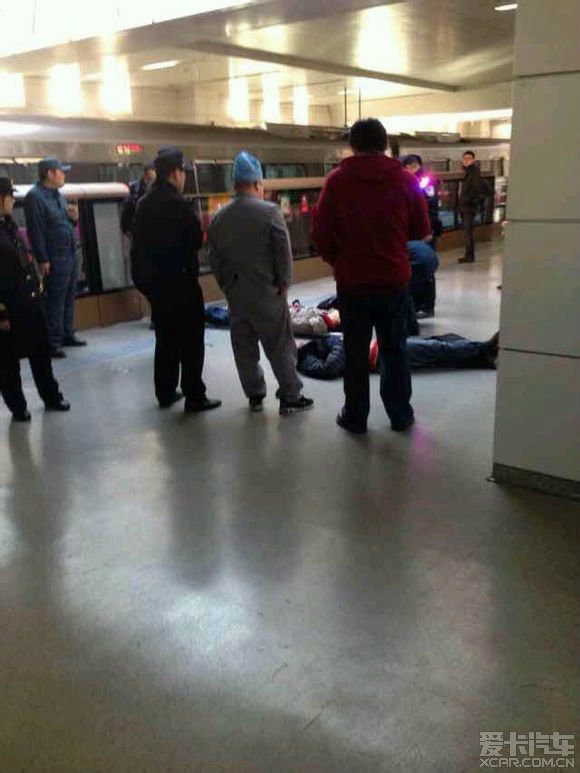fall: (261, 289, 508, 410)
